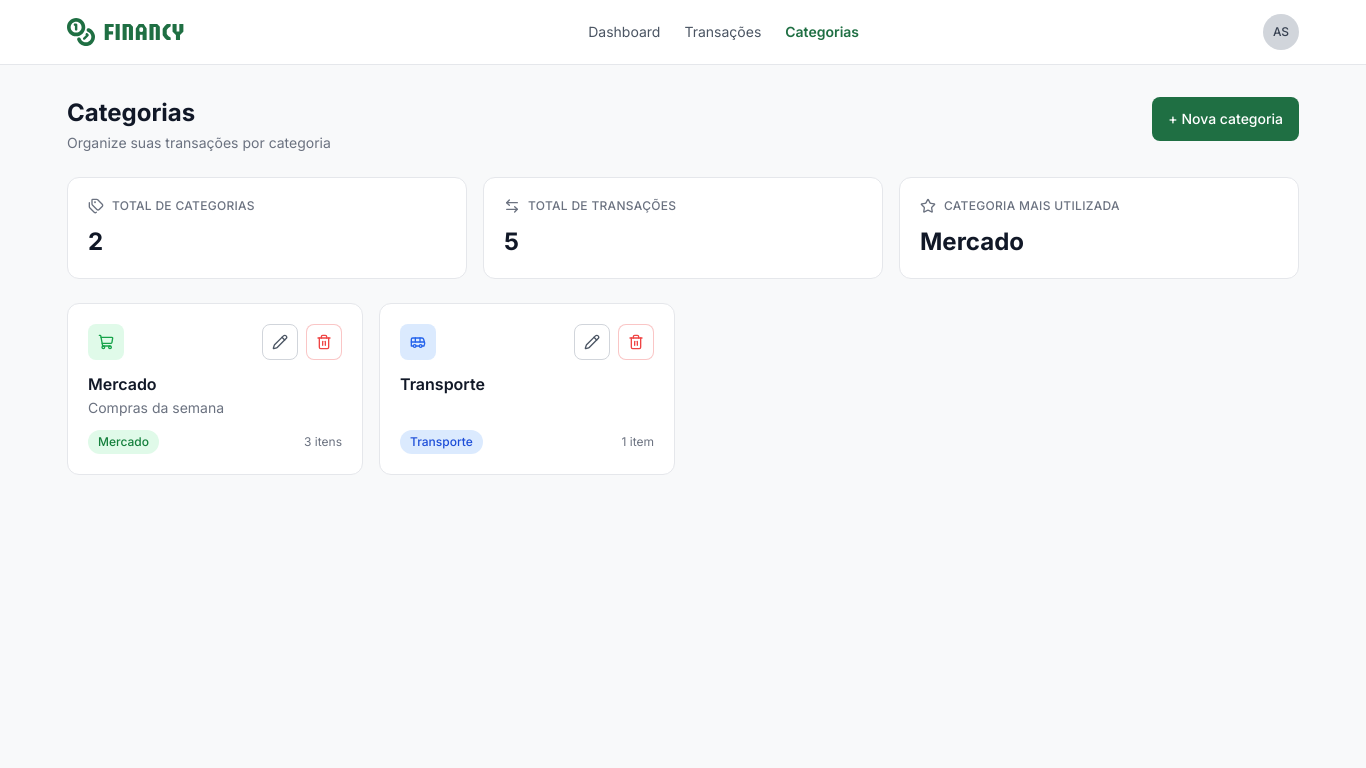
CategoriesPage › shows the right category after canceling an edit and opening a different one
Click the button named "Editar Mercado" at (280, 342), box [262,324,298,360]
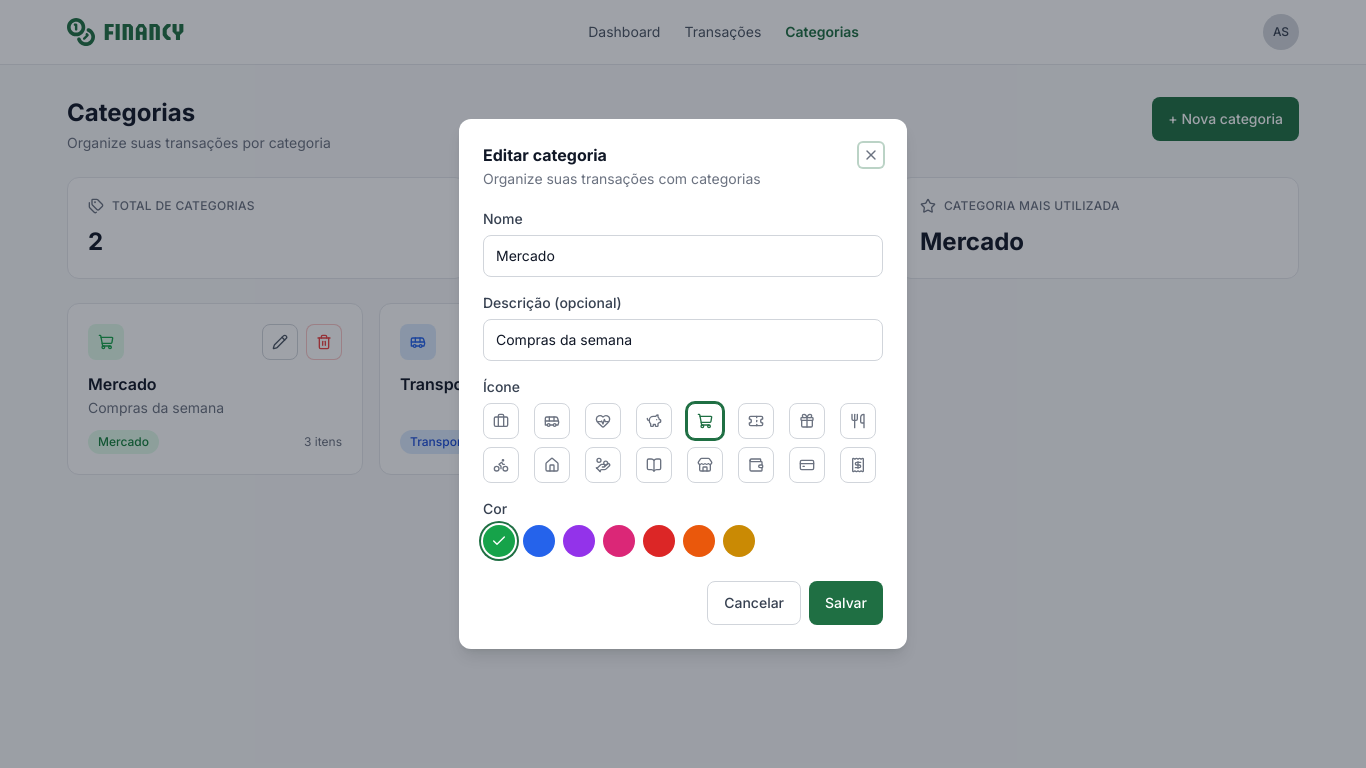
Check: the field labelled "Nome" holds "Mercado", box [483,235,883,277]
Click the button "Cancelar" at (754, 603), box [707,581,801,625]
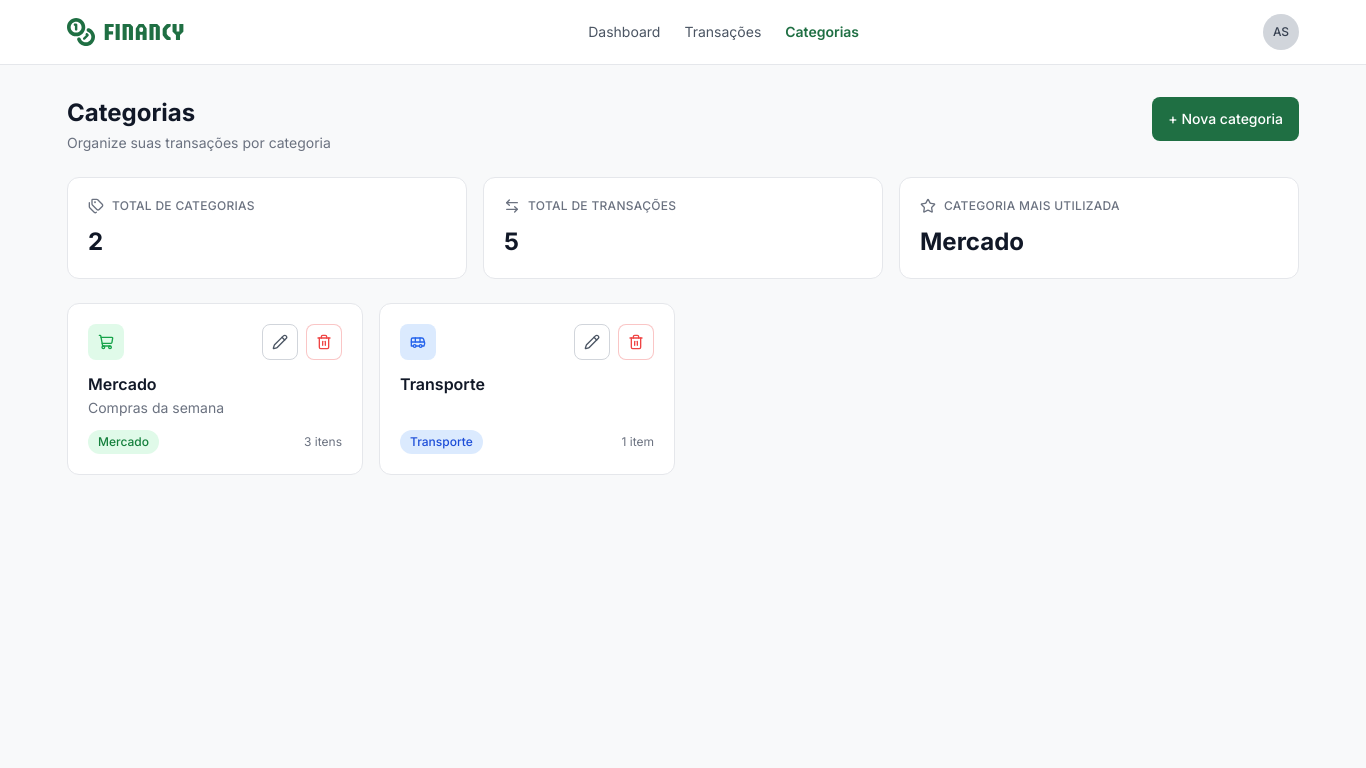
Click the button named "Editar Transporte" at (592, 342), box [574,324,610,360]
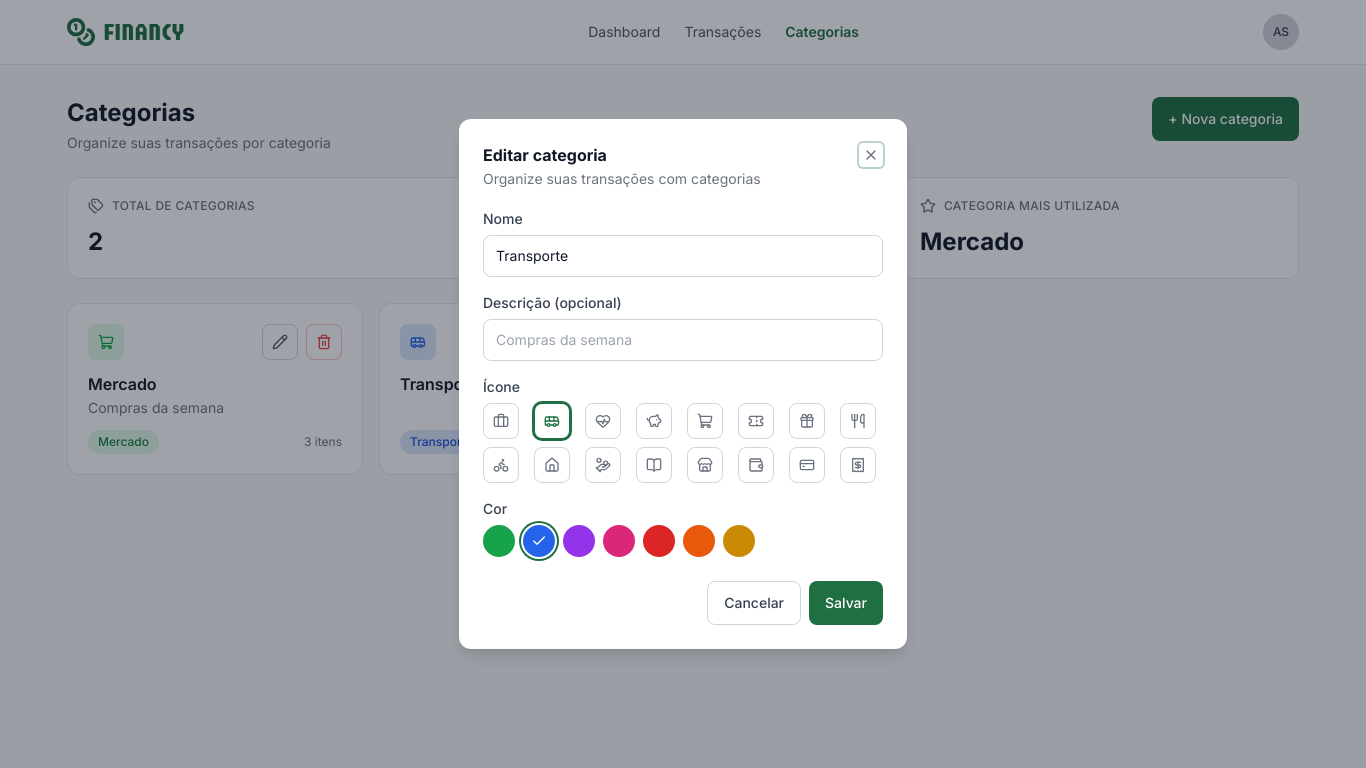
Check: the field labelled "Nome" holds "Transporte", box [483,235,883,277]
